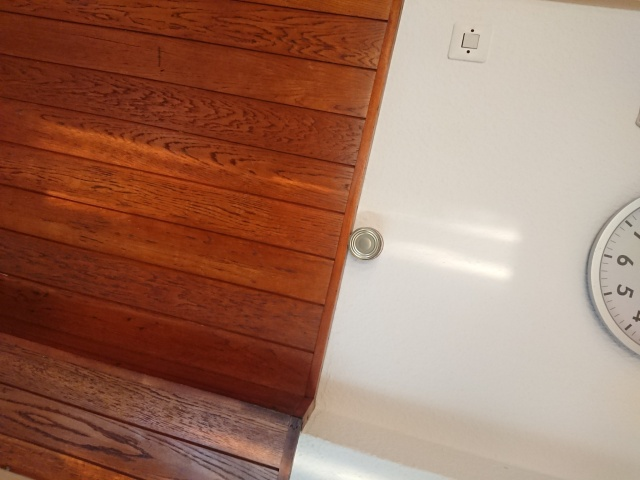Podravka Luncheon Meat 150g: (346, 224, 385, 262)
